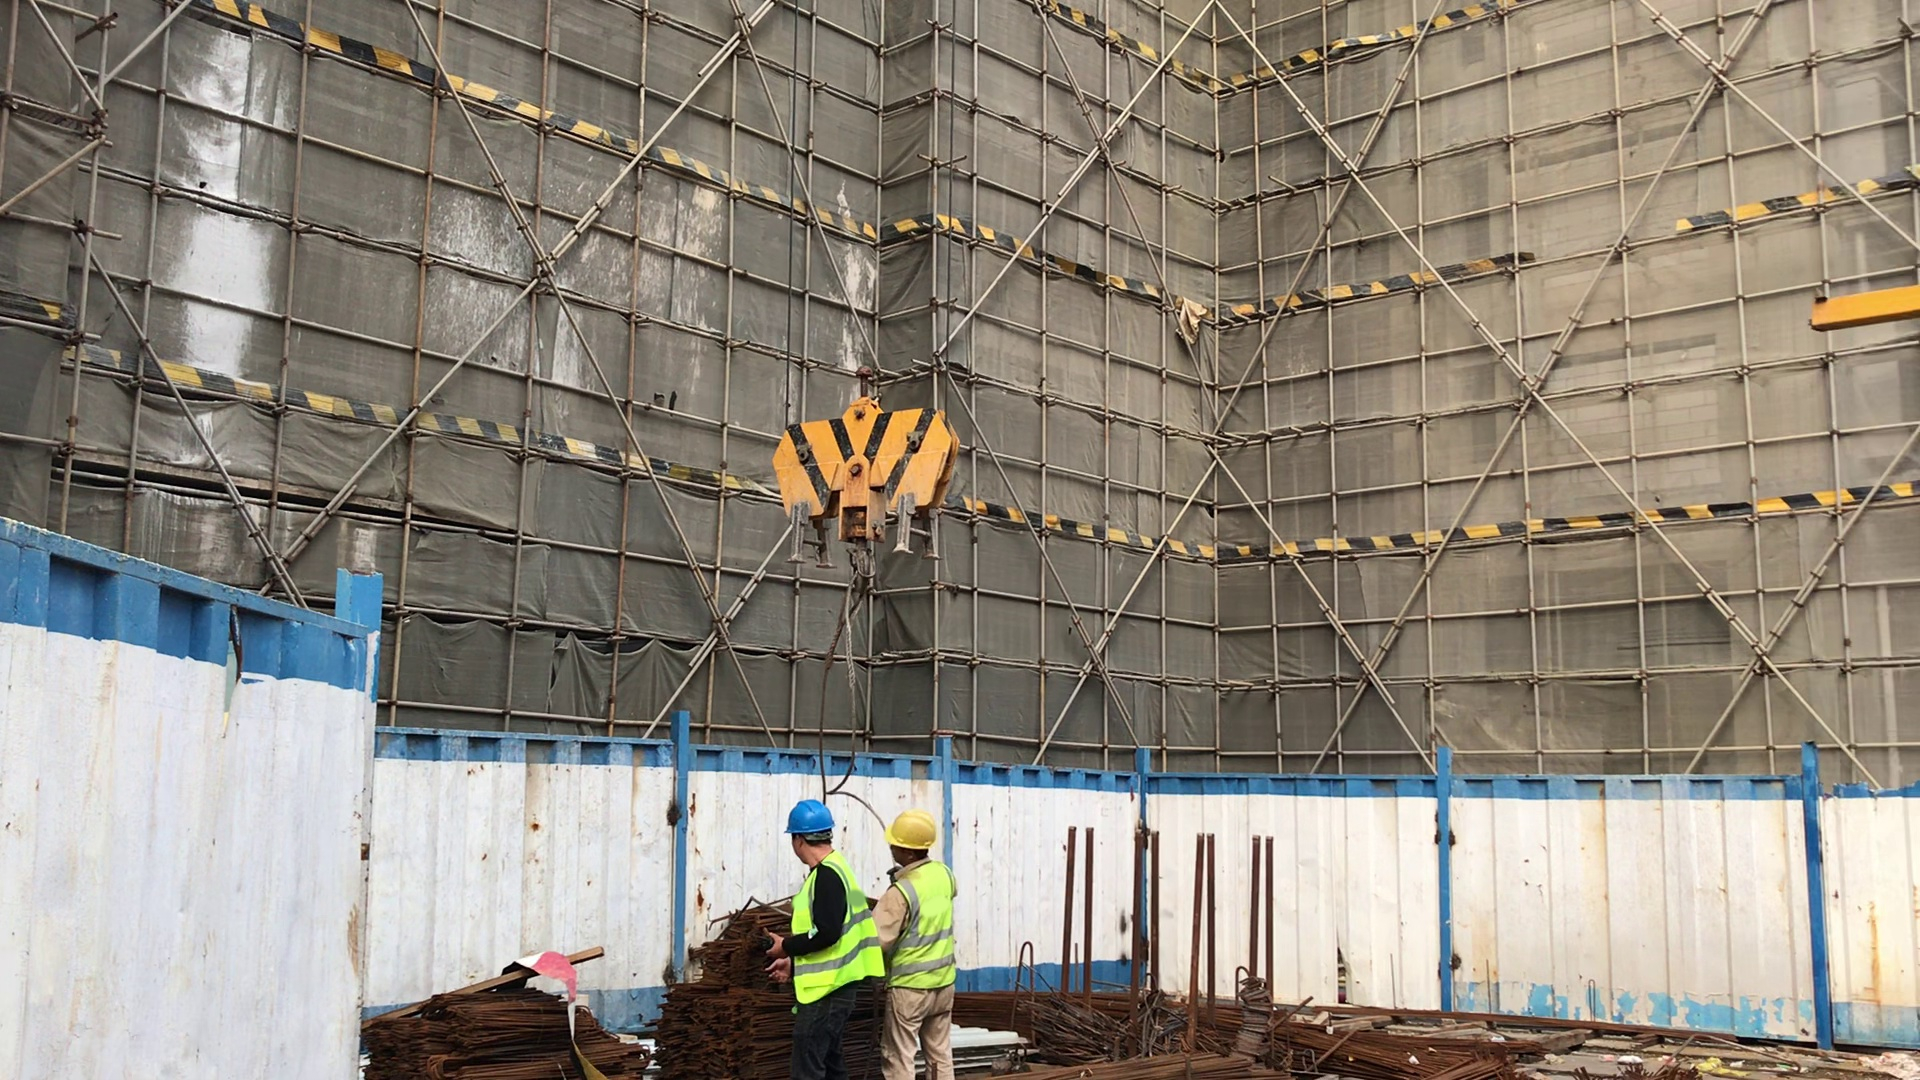helmet: (881, 812, 946, 850), (777, 801, 840, 835)
person: (758, 790, 891, 1080), (869, 806, 988, 1080)
vest: (782, 863, 880, 995), (893, 872, 955, 991)
